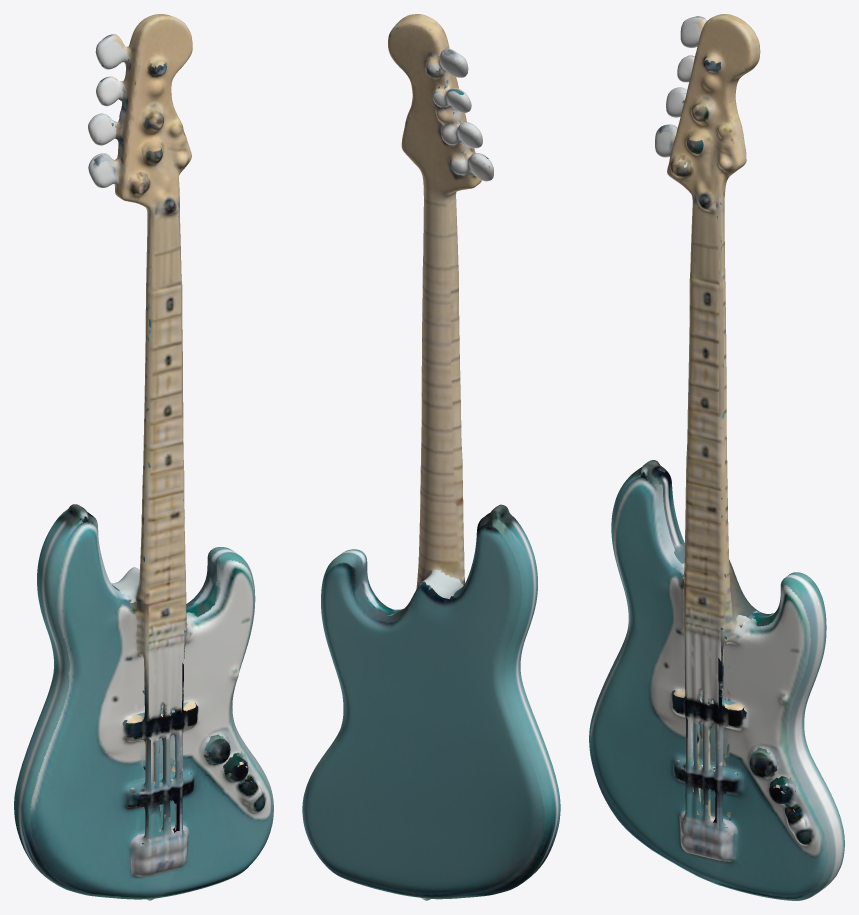
File: bassguitar.glb
3 views of the same model, side by side, from view 1: azimuth 30°, elevation 25°; view 2: azimuth 150°, elevation 25°; view 3: azimuth 330°, elevation 25° (orthographic).
Visible parts, largest first — view 1: Mesh; view 2: Mesh; view 3: Mesh.
Part boxes in pixels (x1=…): Mesh: x1=14, y1=14, x2=273, y2=900; Mesh: x1=302, y1=14, x2=560, y2=900; Mesh: x1=589, y1=14, x2=844, y2=900.
Bounding box in the file's own units: 0.5903 × 1.99 × 0.1286.
Materials: 1 (1 with a texture image).
